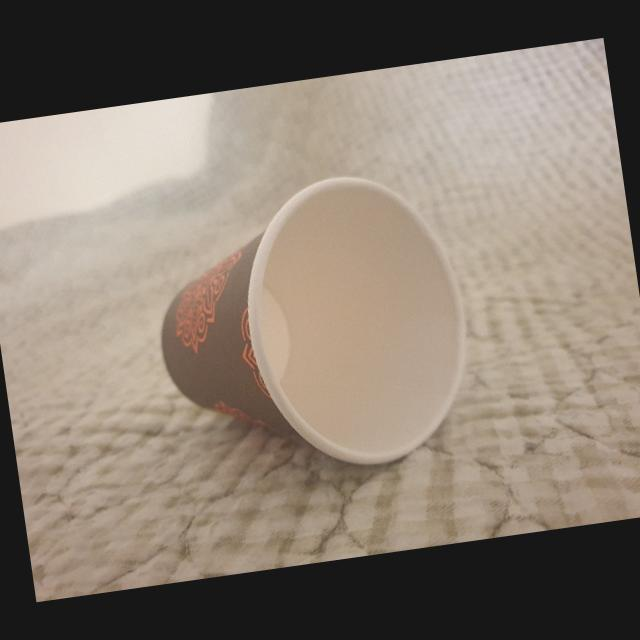trash: (133, 158, 490, 500)
